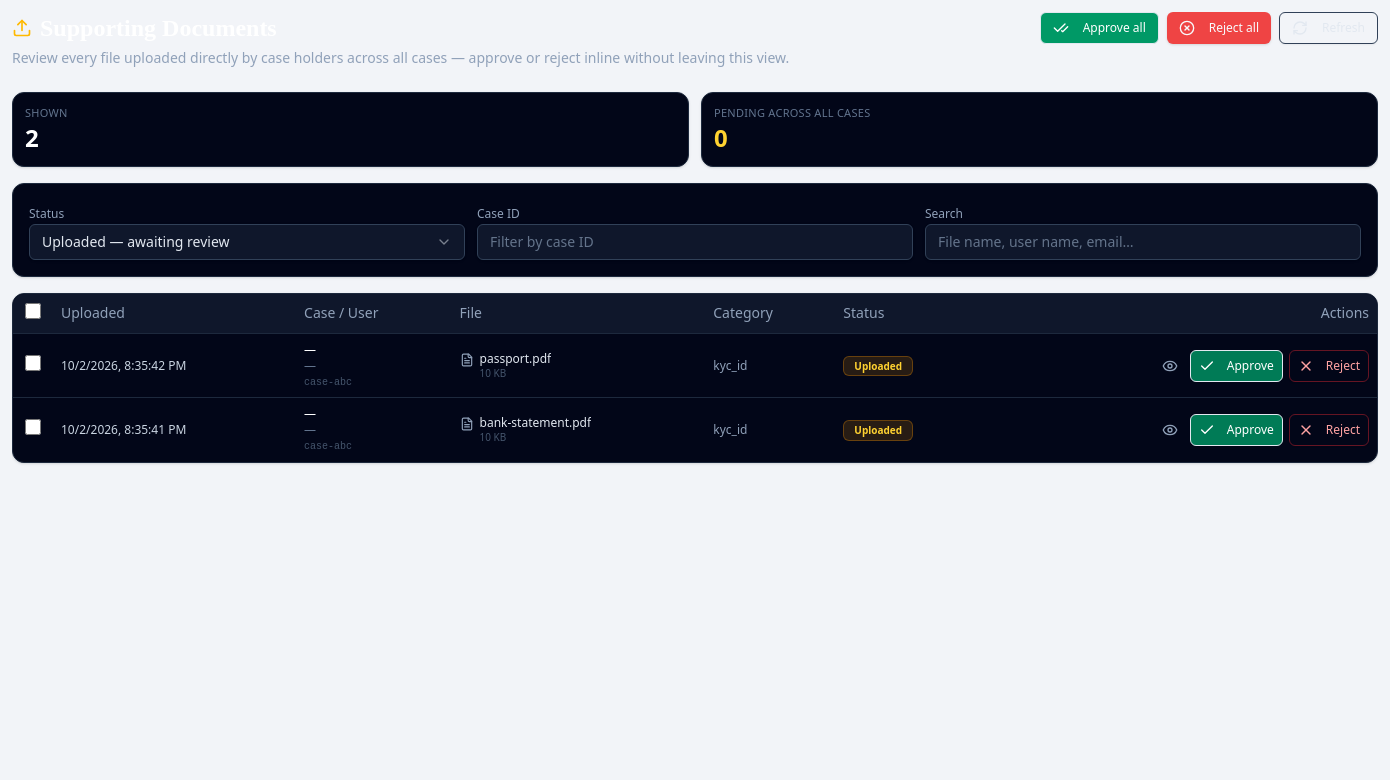
Scenario: SupportingDocumentsTab — in-place status-change pruning (full component) › toolbar count drops from 2 to 1 when one selected doc is approved inline without a server reload
Expected: the row with test id "row-supporting-doc-10" is shown, x1=13 y1=334 x2=1377 y2=398
Expected: the row with test id "row-supporting-doc-11" is shown, x1=13 y1=398 x2=1377 y2=462
# Select both rows using the real component checkboxes.
Click the checkbox with test id "checkbox-supporting-doc-10": (33, 363) x1=25 y1=355 x2=41 y2=371
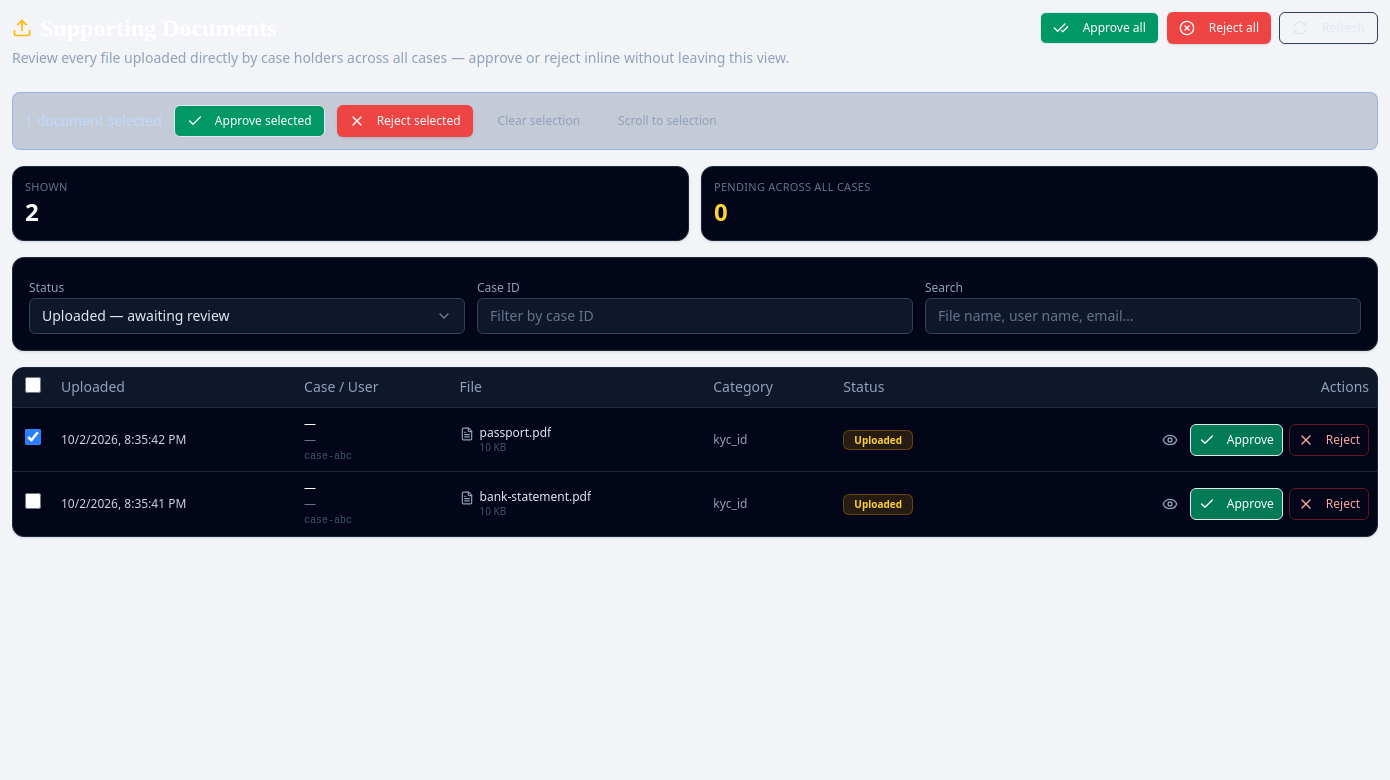
Click the checkbox with test id "checkbox-supporting-doc-11": (33, 502) x1=25 y1=494 x2=41 y2=510
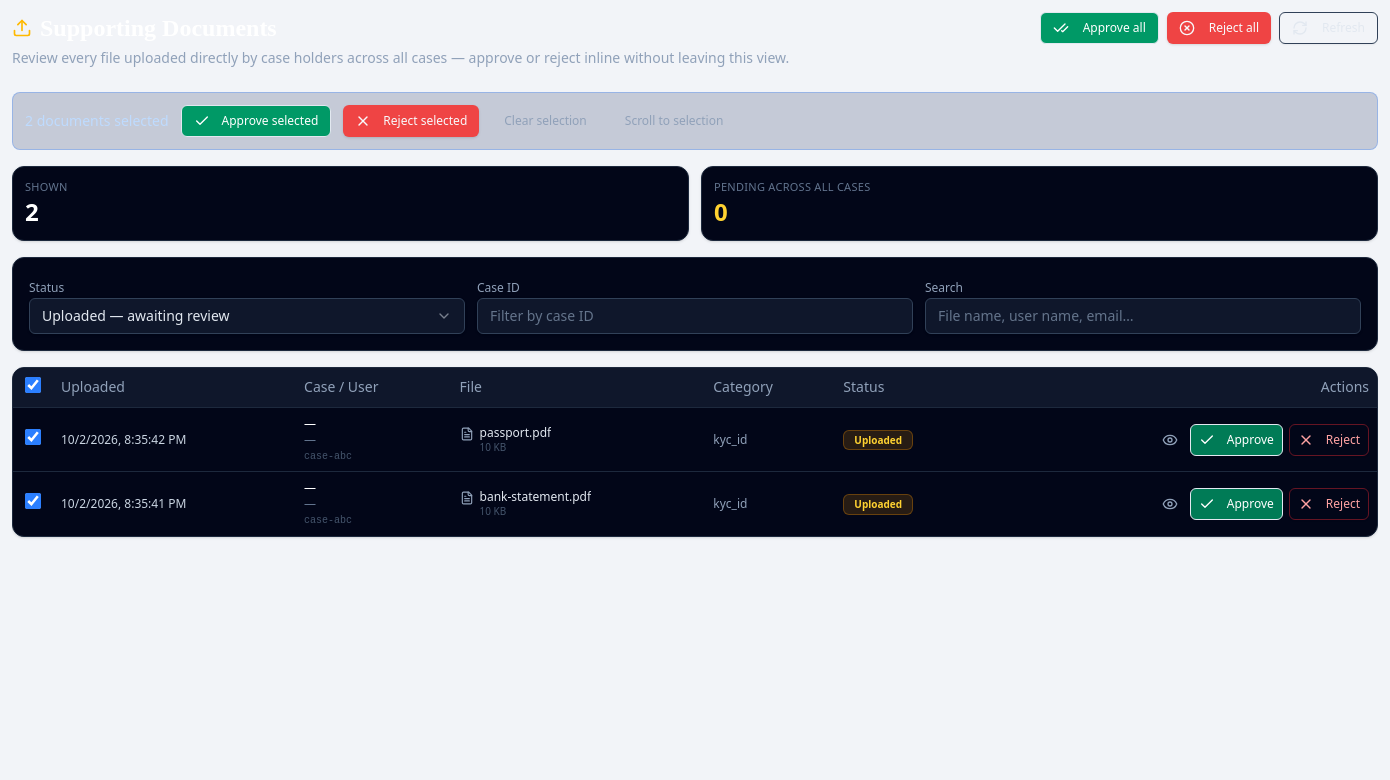
Now the element with test id "toolbar-selection-supporting-docs" shows "2 documents selected", box x1=12 y1=92 x2=1378 y2=150
Click the button with test id "button-approve-supporting-doc-11": (1236, 504) x1=1190 y1=488 x2=1283 y2=520
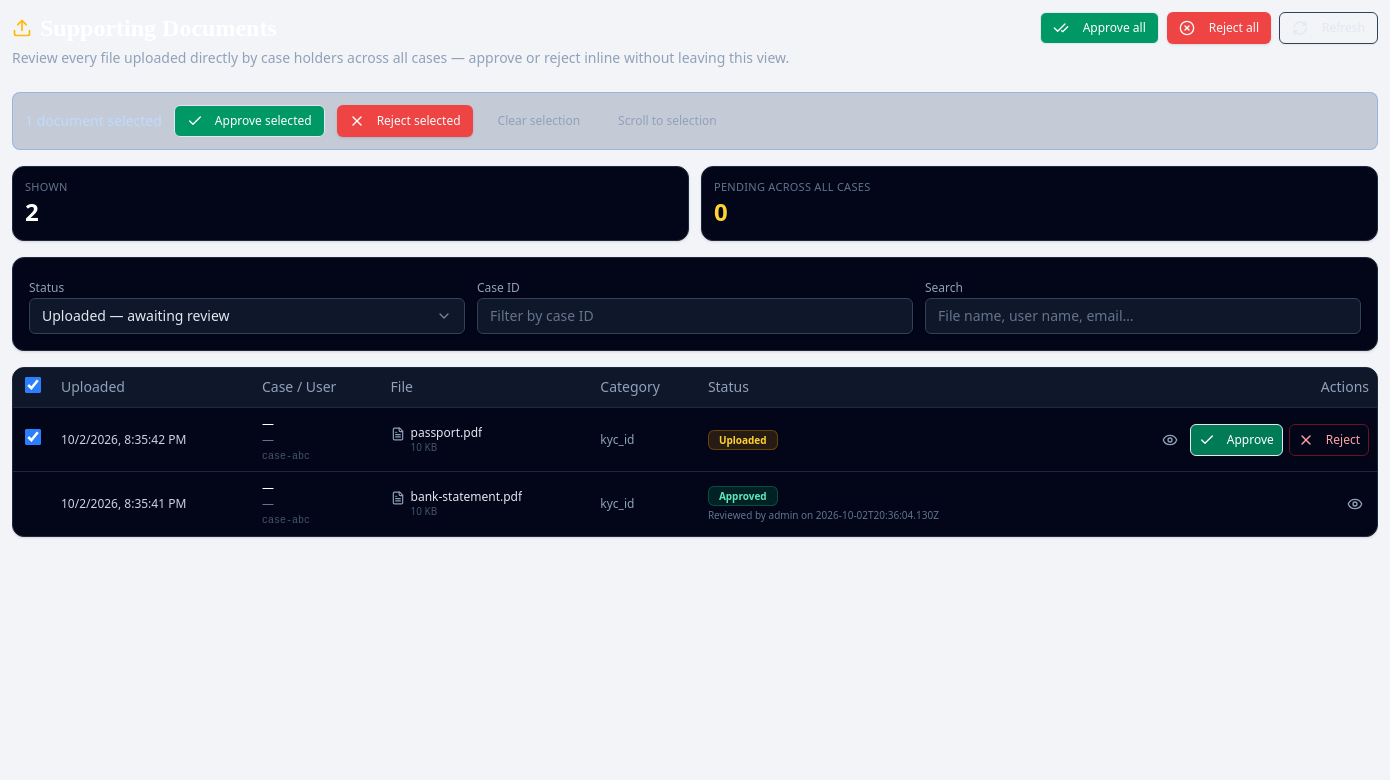
Now the element with test id "toolbar-selection-supporting-docs" shows "1 document selected", box x1=12 y1=92 x2=1378 y2=150
